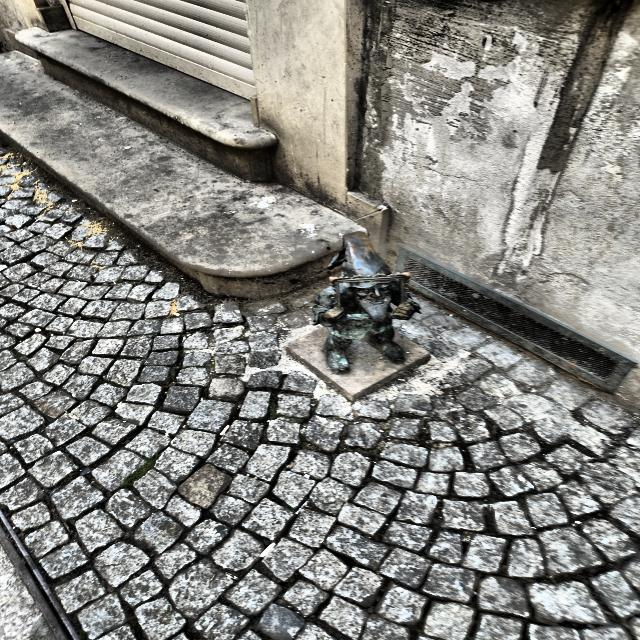Galeriusz: (313, 231, 420, 372)
